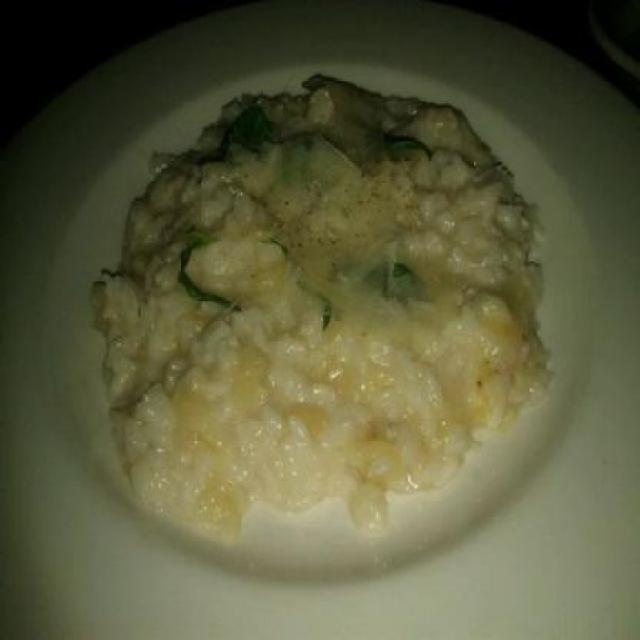Risotto: (81, 68, 562, 517)
